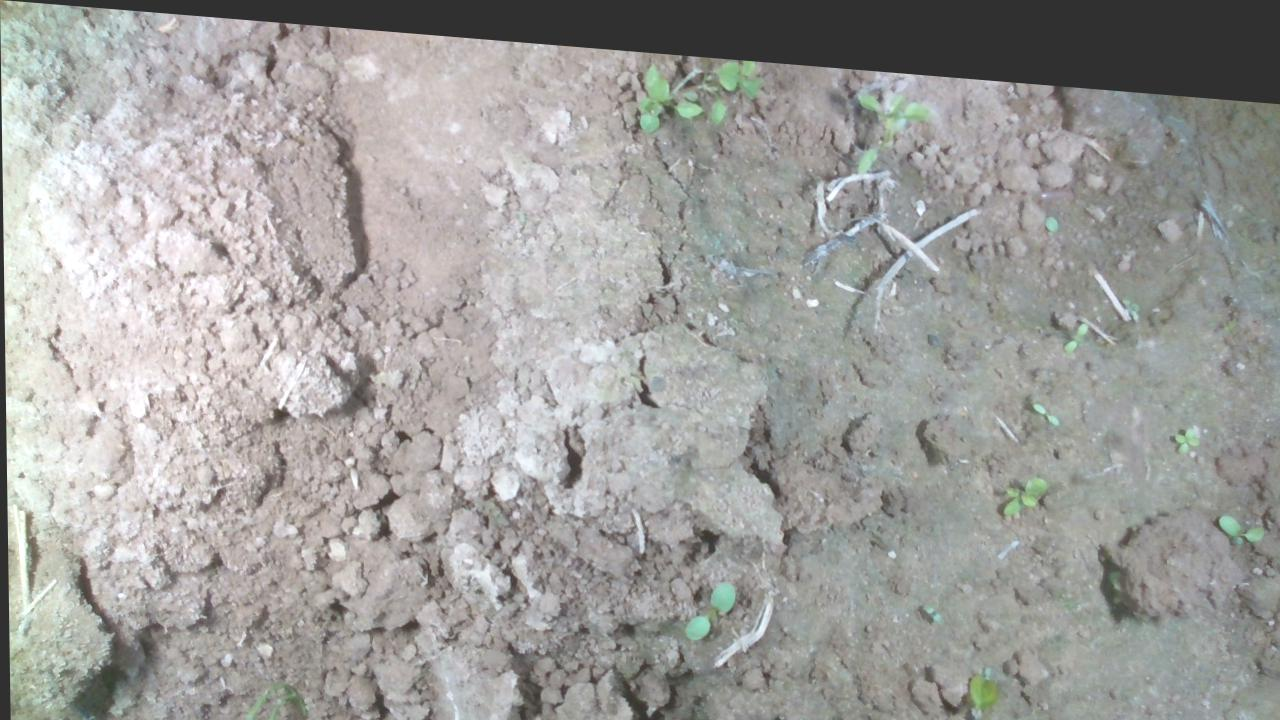weed: (912, 649, 1046, 719), (678, 562, 736, 632), (997, 456, 1047, 501), (1214, 489, 1265, 522), (1172, 405, 1200, 437), (1063, 300, 1087, 335), (1030, 383, 1059, 409), (1120, 277, 1140, 300)
